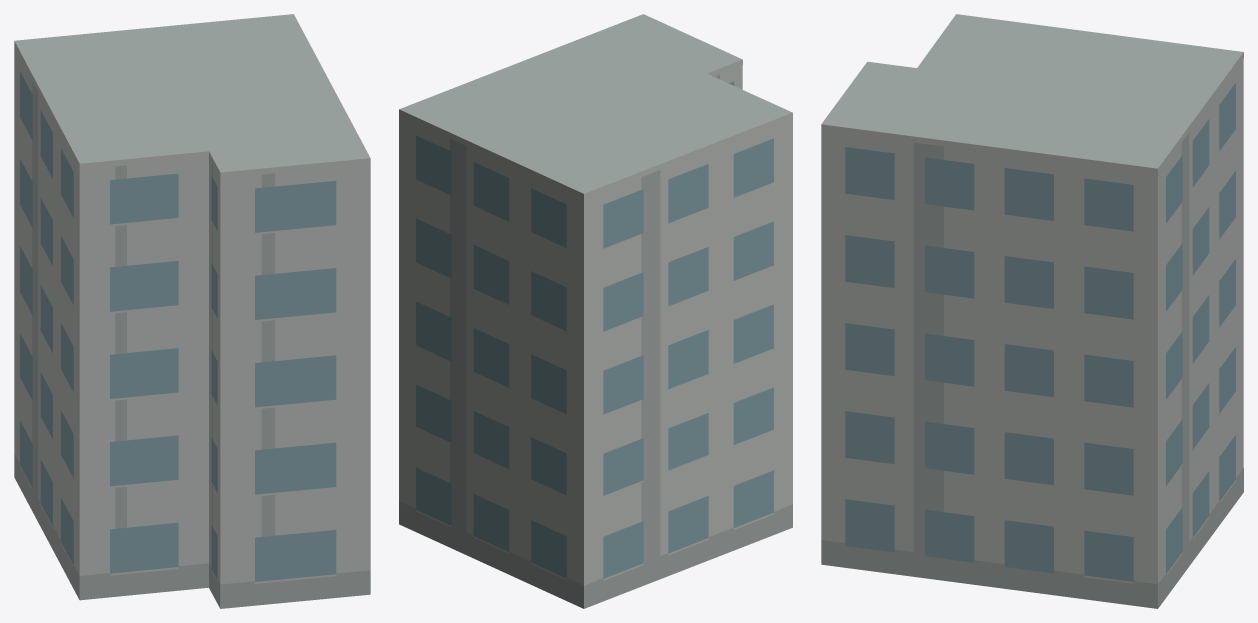
The model's file is survey-upis-32846386.glb.
3 views of the same model, side by side, from view 1: azimuth 30°, elevation 25°; view 2: azimuth 150°, elevation 25°; view 3: azimuth 270°, elevation 25° (orthographic). The views are drawn at different scales.
Visible parts, largest first — view 1: survey-upis-32846386.tmp; view 2: survey-upis-32846386.tmp; view 3: survey-upis-32846386.tmp.
Boxes of the visible parts, box(x1,y1,x2,y2) form: survey-upis-32846386.tmp: box(14, 14, 370, 608); survey-upis-32846386.tmp: box(399, 14, 792, 608); survey-upis-32846386.tmp: box(821, 14, 1243, 608).
Size of the model in its own units: 13.3 by 17.64 by 15.36.
